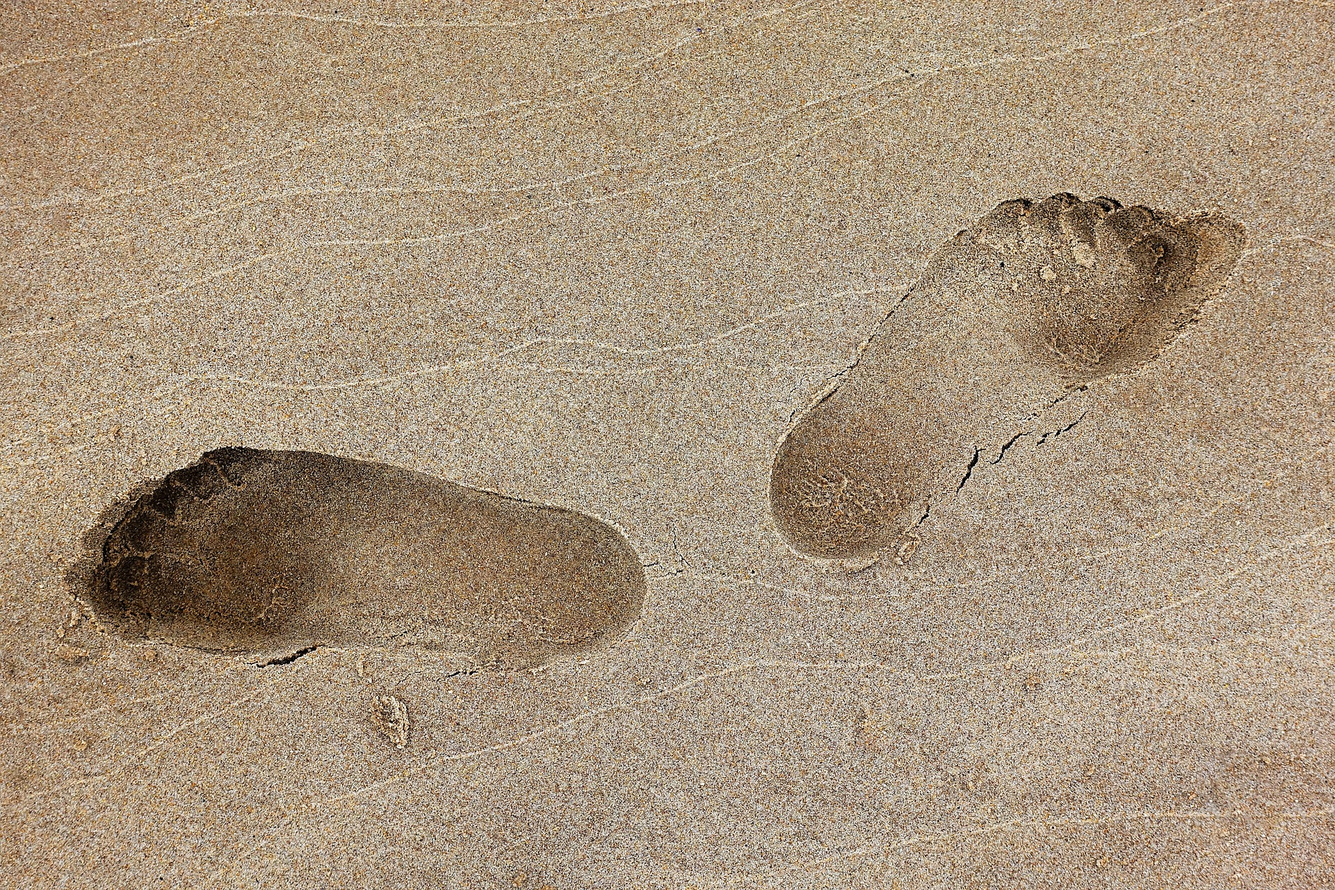human_footprint: (770, 194, 1245, 561), (81, 447, 645, 669)
